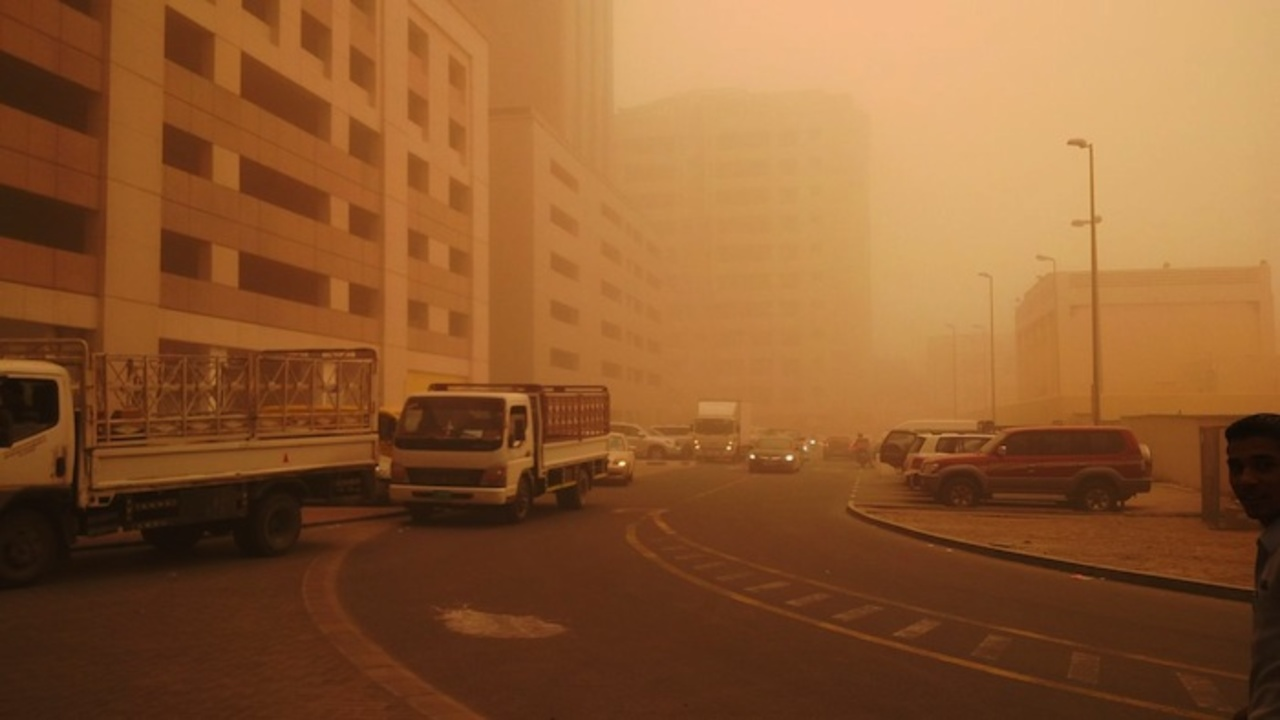car: (908, 424, 1155, 512), (882, 423, 992, 490), (746, 431, 807, 474), (629, 415, 678, 461), (601, 429, 637, 482), (656, 422, 694, 451), (821, 434, 854, 458)
motorcycle: (855, 450, 869, 468)
person: (1217, 412, 1279, 716), (855, 433, 874, 464)
truck: (0, 346, 391, 591), (379, 382, 621, 523), (693, 396, 756, 467)
